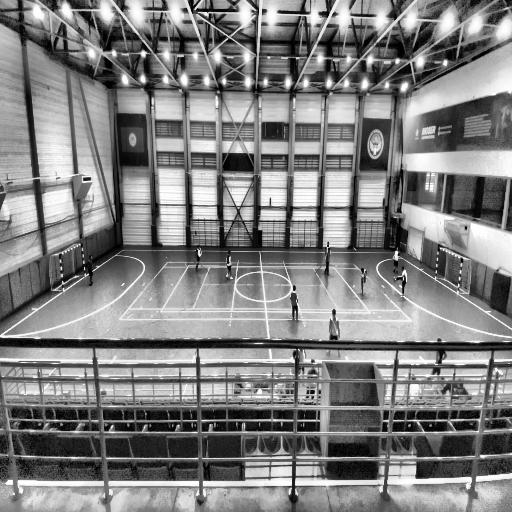ball: (352, 244, 358, 255)
player: (325, 308, 341, 340), (394, 266, 408, 301), (290, 284, 300, 325), (87, 254, 95, 287), (392, 244, 400, 276), (194, 243, 202, 273), (360, 268, 368, 298), (226, 249, 233, 282), (324, 239, 330, 276)
